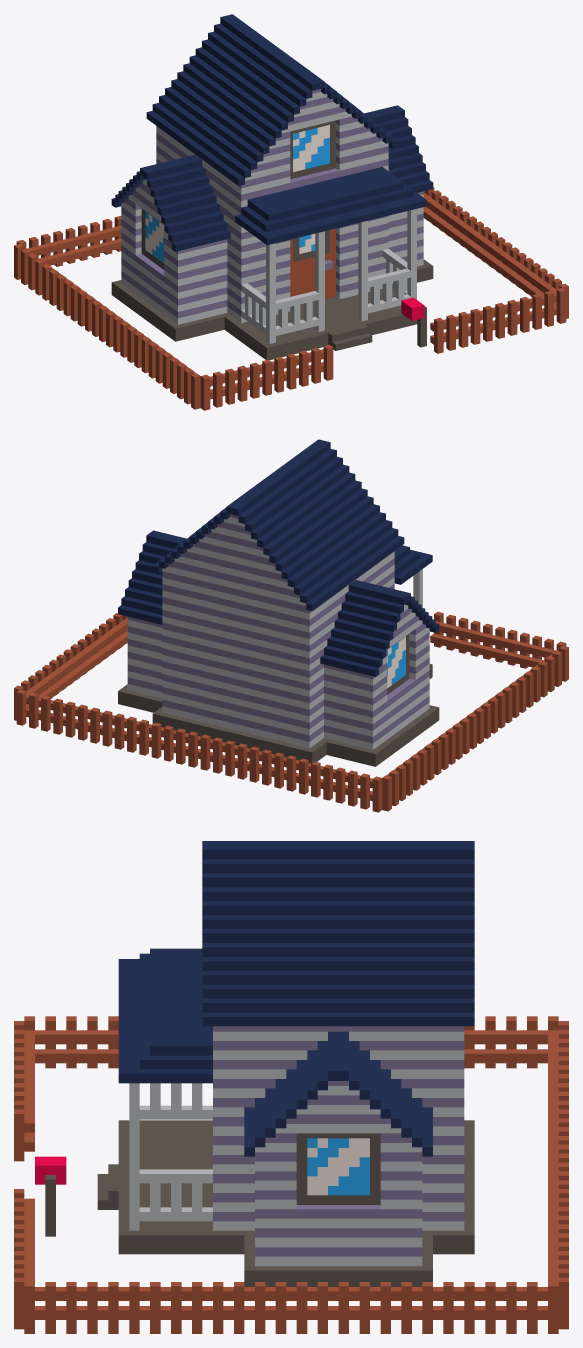
The model's file is house_a_b.obj.
The picture shows the model from 3 angles, top to bottom: view 1: azimuth 30°, elevation 25°; view 2: azimuth 150°, elevation 25°; view 3: azimuth 270°, elevation 25°; orthographic projection. The views are drawn at different scales.
Size of the model in its own units: 6.1 by 3.7 by 5.3.
1 material, 1 textured.
